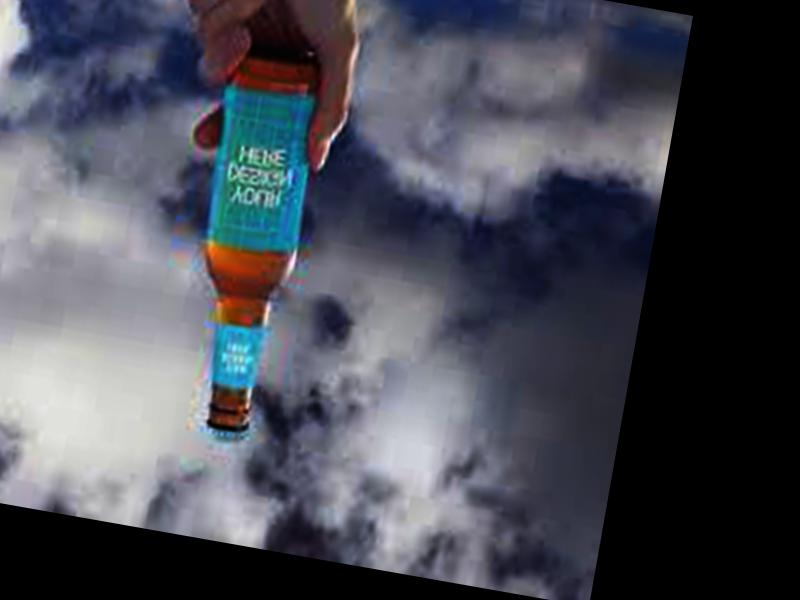Beer: (174, 45, 330, 445)
